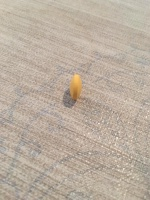Nurofen: (68, 73, 84, 102)
